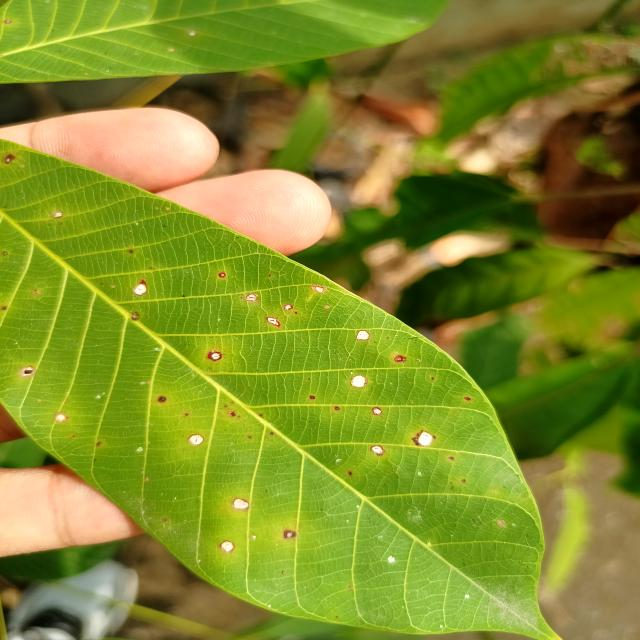Colletotrichum: (133, 279, 148, 296), (232, 498, 250, 510), (219, 540, 235, 552), (189, 434, 205, 445), (370, 445, 385, 456), (208, 351, 222, 361), (356, 330, 370, 340), (4, 154, 16, 165), (284, 529, 296, 539), (394, 355, 406, 362), (372, 407, 382, 415), (283, 304, 293, 310), (158, 396, 167, 402), (218, 272, 226, 278), (334, 406, 340, 411), (3, 251, 9, 256), (310, 396, 315, 400)
